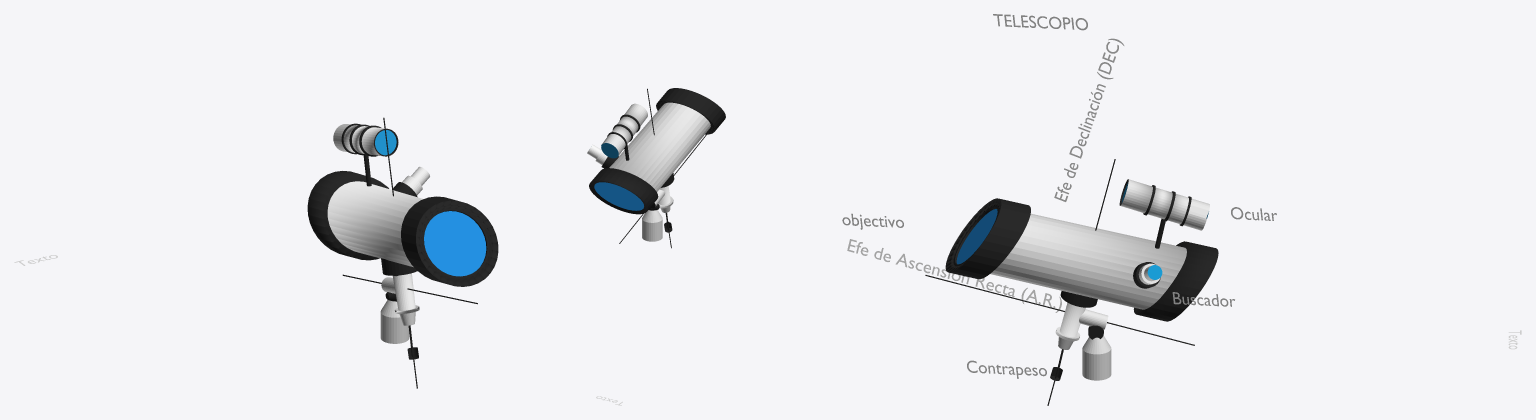
File: telescopio.glb
3 views of the same model, side by side, from view 1: azimuth 30°, elevation 25°; view 2: azimuth 150°, elevation 25°; view 3: azimuth 270°, elevation 25° (orthographic). The views are drawn at different scales.
Visible parts, largest first — view 1: Cilindro, Cilindro.006, Cilindro.002, Cilindro.009, Cilindro.003; view 2: Cilindro, Cilindro.006, Cilindro.009, Cilindro.003; view 3: Cilindro, Cilindro.006, Cilindro.009, Objeto.005, Objeto.004, Cilindro.002, Cilindro.003.
Part boxes in pixels (x1,y1,x2,y2): Cilindro: (307,171,498,286); Cilindro.006: (333,123,398,156); Cilindro.002: (392,273,419,325); Cilindro.009: (380,300,409,343); Cilindro.003: (393,166,429,197); Cilindro: (589,88,725,214); Cilindro.006: (601,103,647,158); Cilindro.009: (642,210,662,241); Cilindro.003: (587,144,618,168); Cilindro: (945,198,1218,321); Cilindro.006: (1119,179,1209,230); Cilindro.009: (1082,335,1111,380); Objeto.005: (847,239,1061,312); Objeto.004: (1054,38,1124,201); Cilindro.002: (1055,302,1085,349); Cilindro.003: (1133,262,1162,288).
Size of the model in its own units: 17.19 by 21.35 by 36.32.
